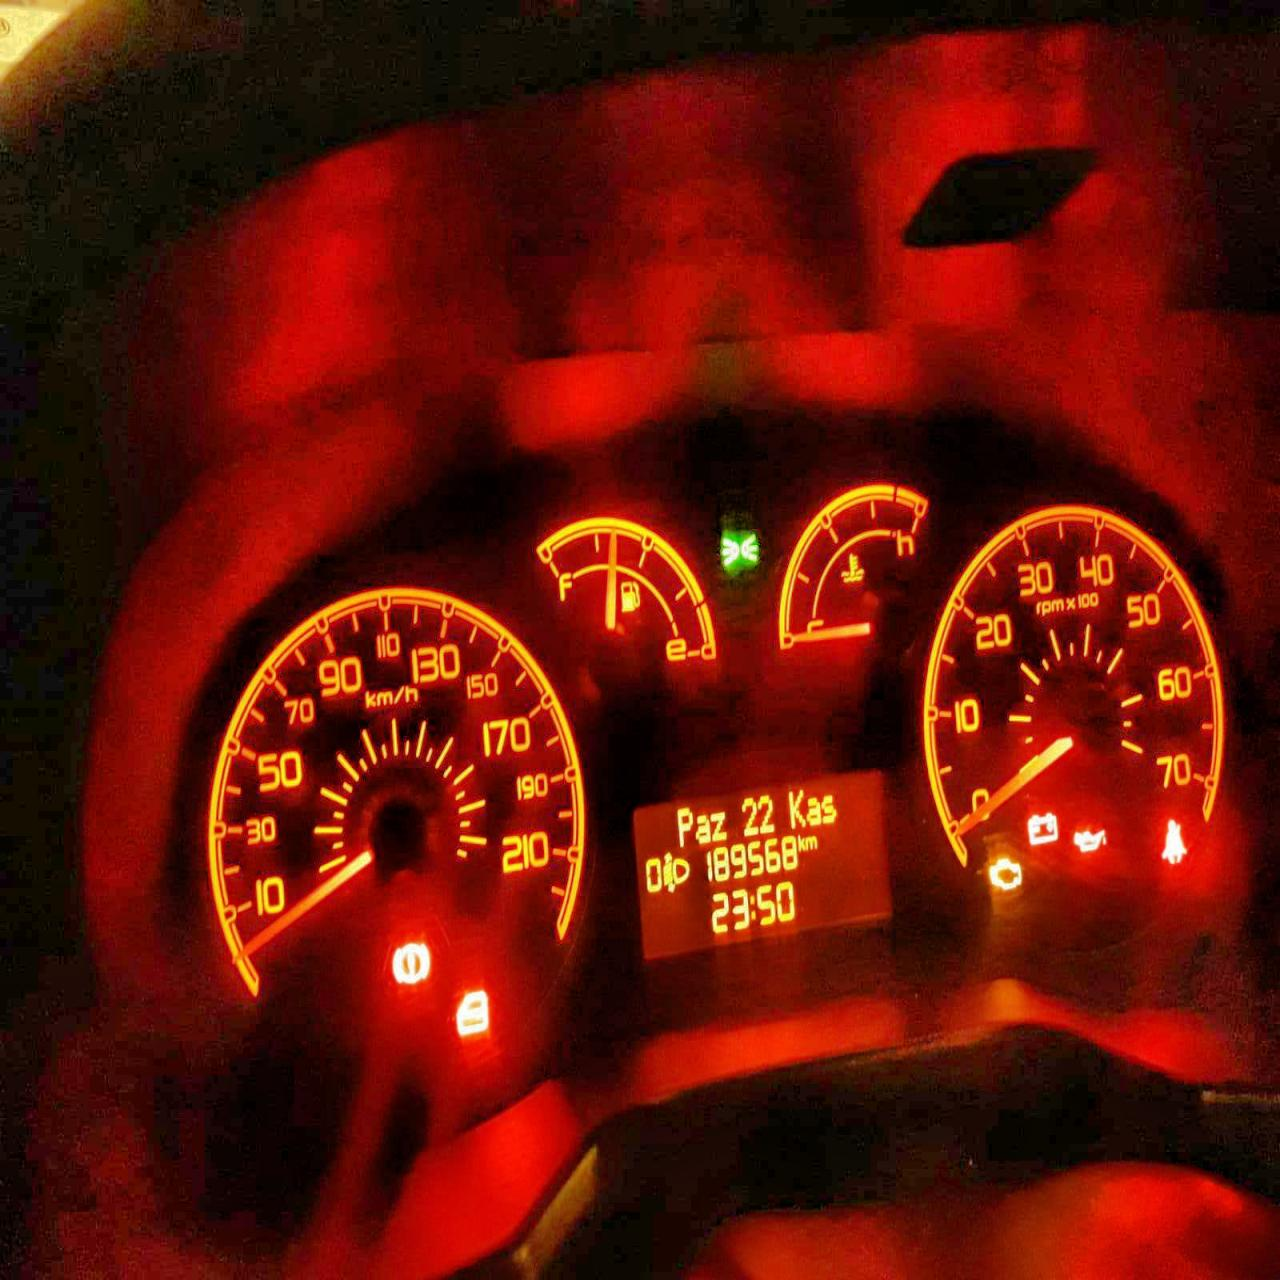0: (775, 879, 796, 922), (645, 856, 662, 893)
1: (704, 849, 713, 881)
2: (710, 891, 729, 933), (740, 796, 758, 836), (757, 794, 775, 835)
3: (731, 887, 750, 931)
5: (756, 884, 775, 925), (747, 839, 764, 876)
6: (763, 836, 781, 873)
8: (781, 835, 797, 872), (713, 845, 729, 883)
9: (729, 842, 747, 879)
X: (676, 805, 694, 847), (788, 788, 805, 829), (709, 810, 727, 842), (821, 792, 837, 824), (694, 813, 710, 845), (805, 796, 822, 826), (749, 893, 757, 920), (804, 835, 817, 850), (797, 833, 805, 851)
odometer: (629, 764, 894, 965)
